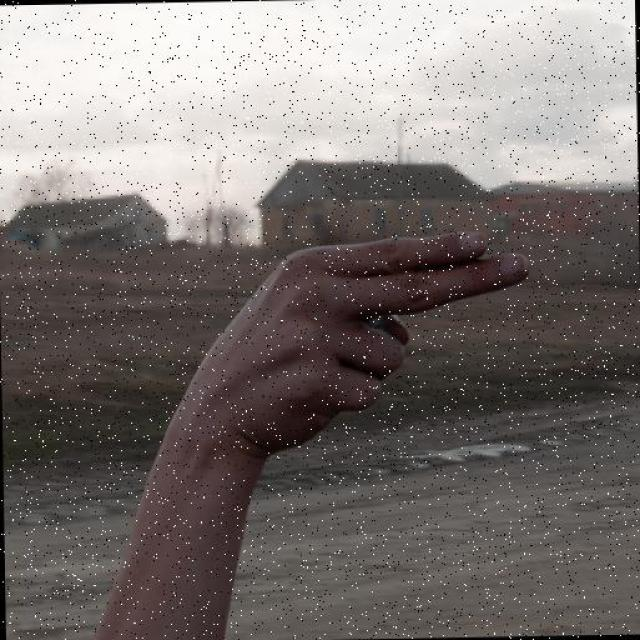H: (168, 222, 546, 453)
